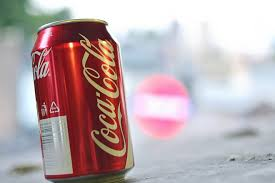coke-can: (27, 18, 136, 179)
